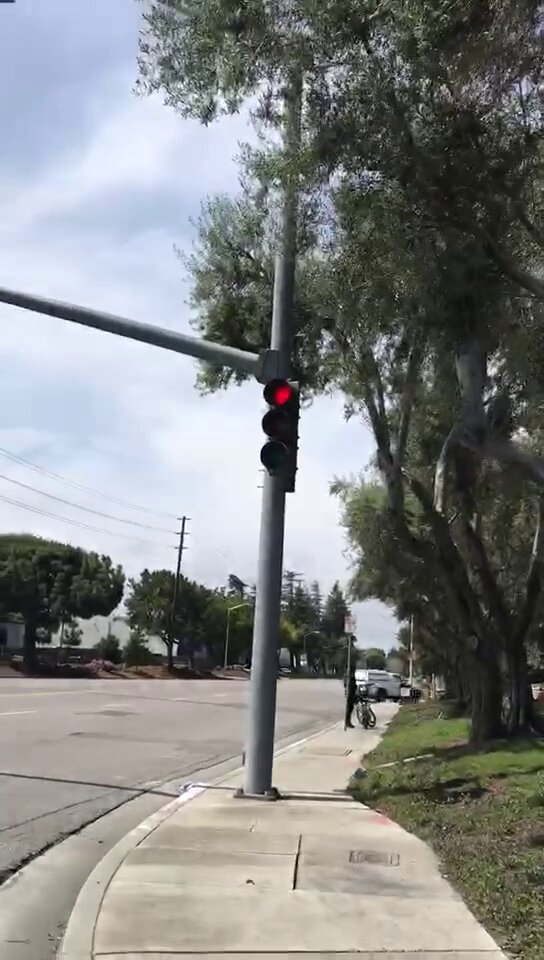red_light: (262, 380, 294, 480)
